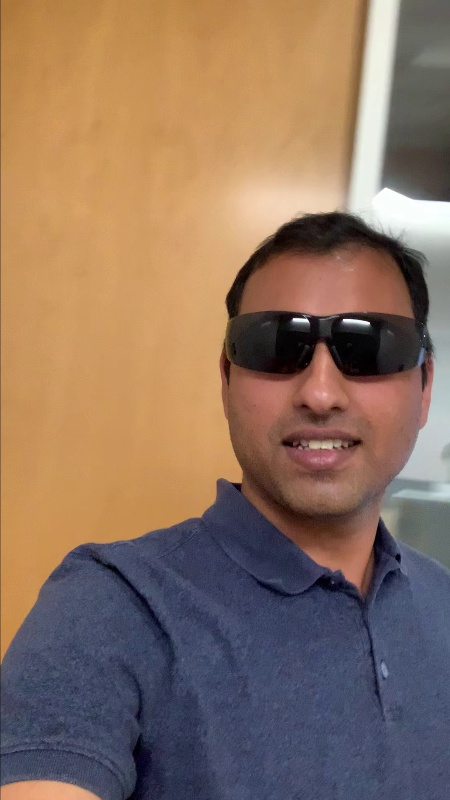glasses: (214, 309, 435, 384)
